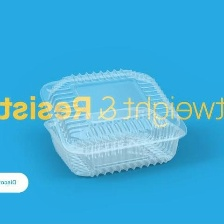plastic_box: (34, 62, 192, 183)
